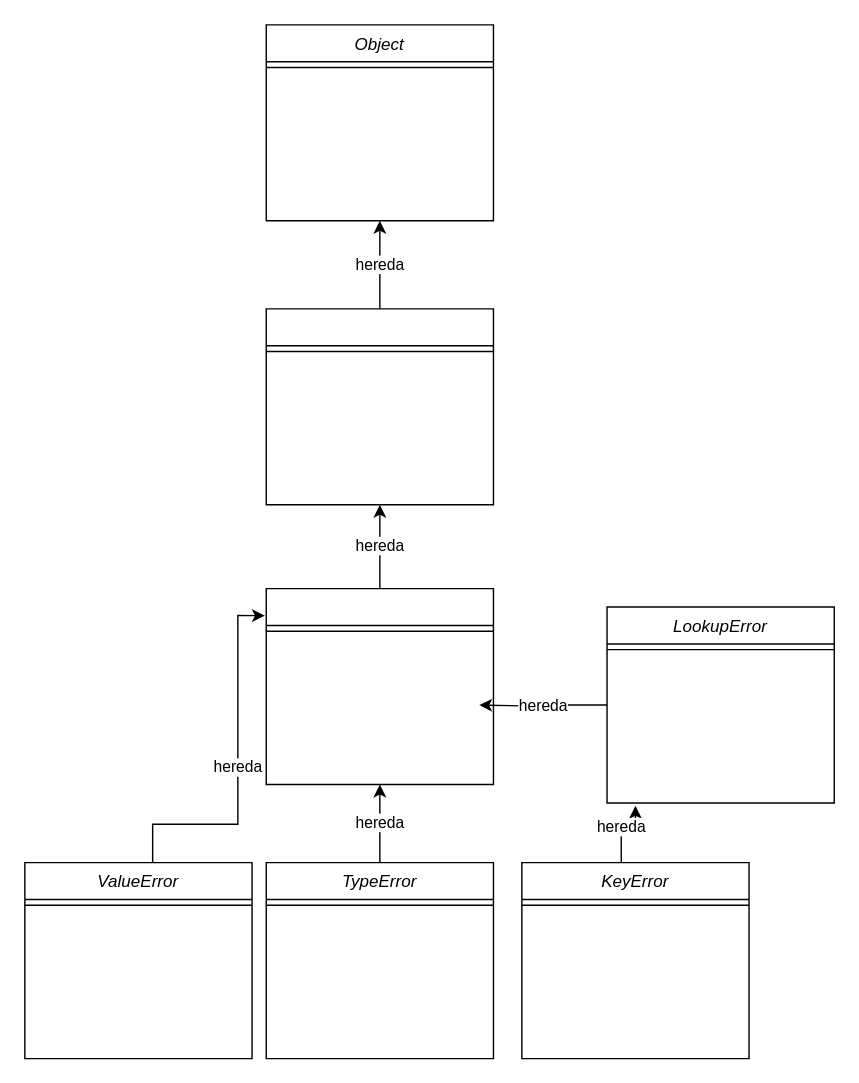
The diagram is 859 pixels wide and 1083 high, and some of its shapes have lost their labels. The centre of each missing label's shape, as x and y in pixels:
"BaseError" belongs at point (379, 406).
"Exception" belongs at point (379, 686).
